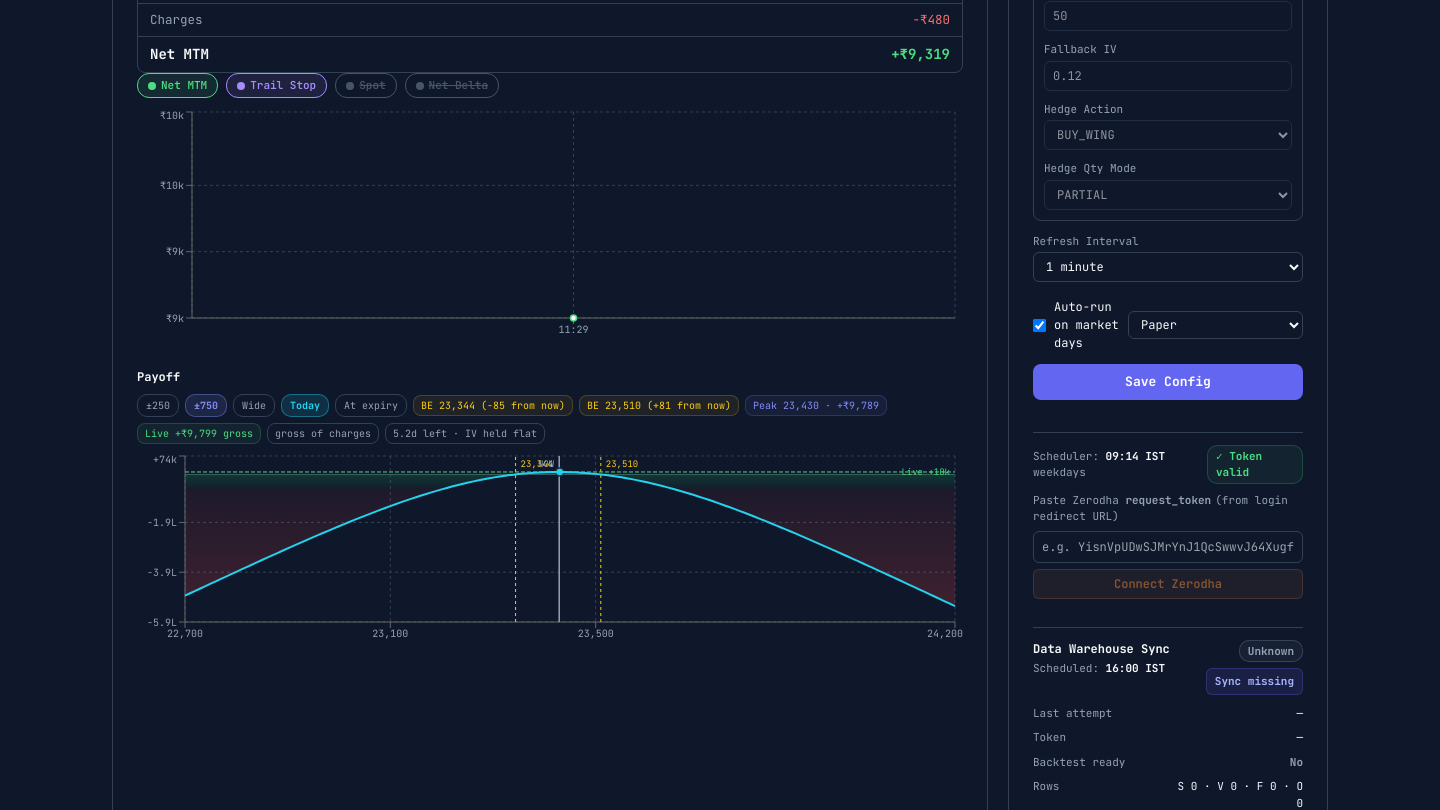
LivePaperMonitor intraday payoff line › shows the expiry break-evens alongside today’s once that line is added
The image size is (1440, 810).
(page scrolled)
Click the button "At expiry" at (371, 405), box [335,394,407,417]
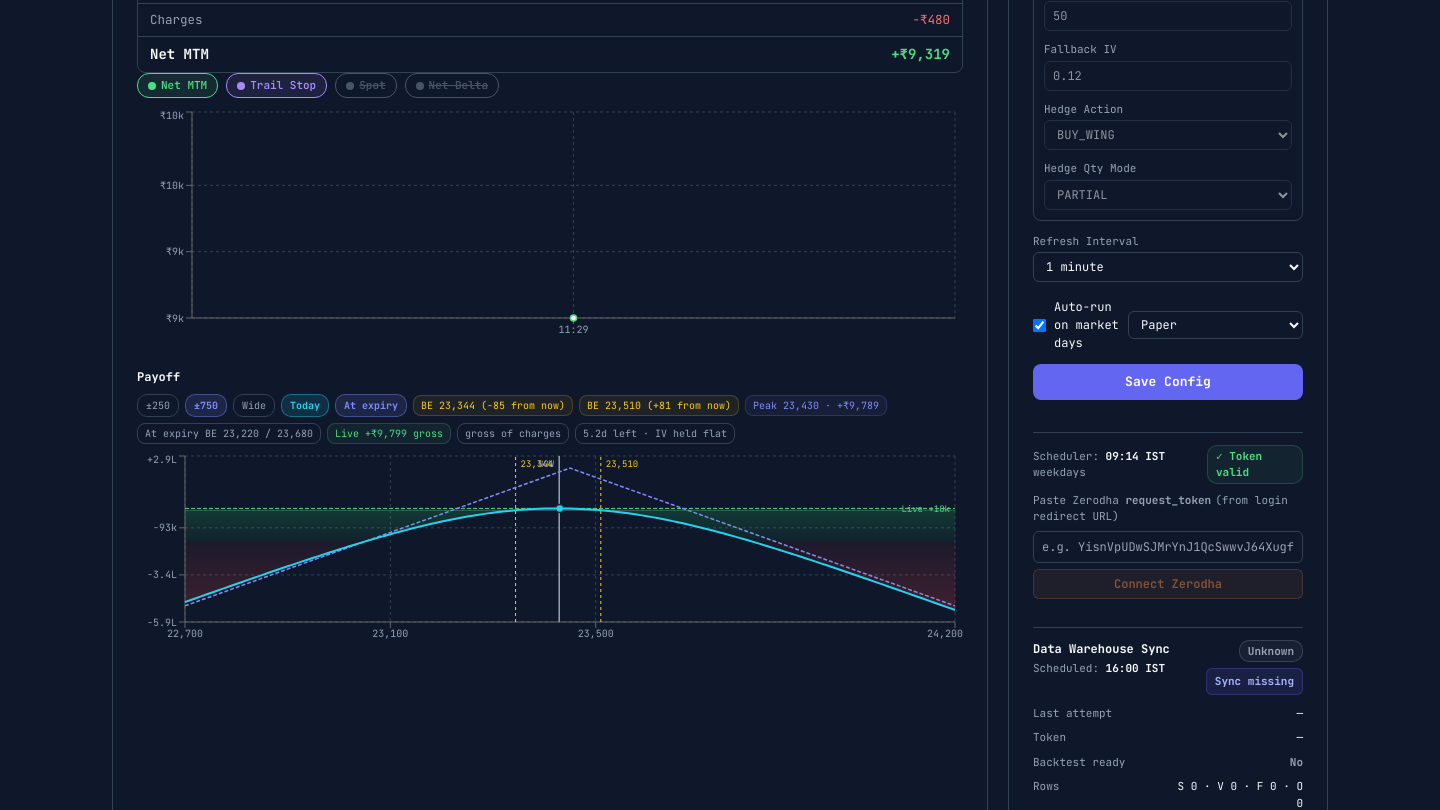
Expected: the text "BE 23,344 (−85 from now)" is shown, [413,395,573,416]
Result: the text "At expiry BE 23,220 / 23,680" is shown at [137,423,321,444]
